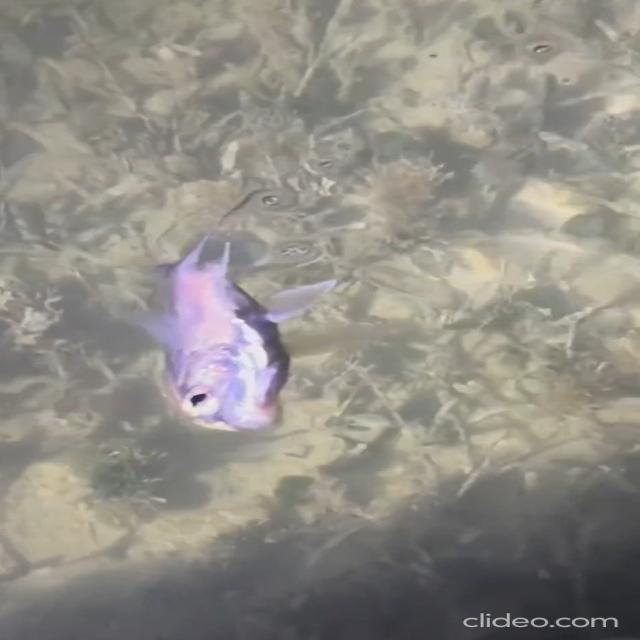fish: (115, 170, 324, 453)
